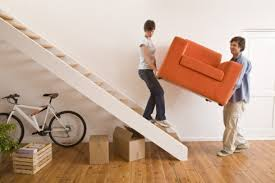Person: (218, 35, 255, 157), (135, 18, 173, 129)
